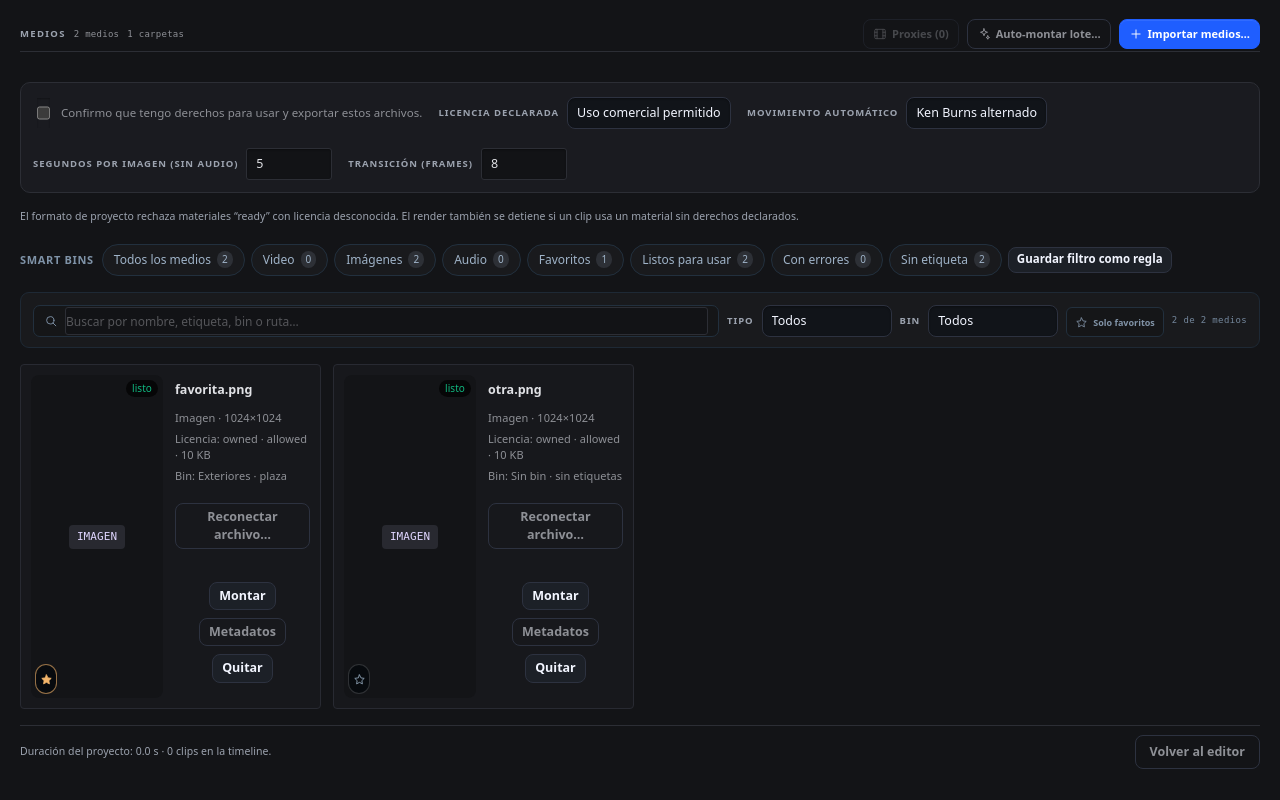
Test: AssetsPanel · organización de medios › filtra por favoritos, etiqueta y bin, y alterna la estrella
The image size is (1280, 800).
Check: the button "favorita.png" is shown, box [175,375,310,405]
Check: the button "otra.png" is shown, box [488,375,623,405]
Click the button "Solo favoritos": coordinates (1115, 322) [1066,307,1164,337]
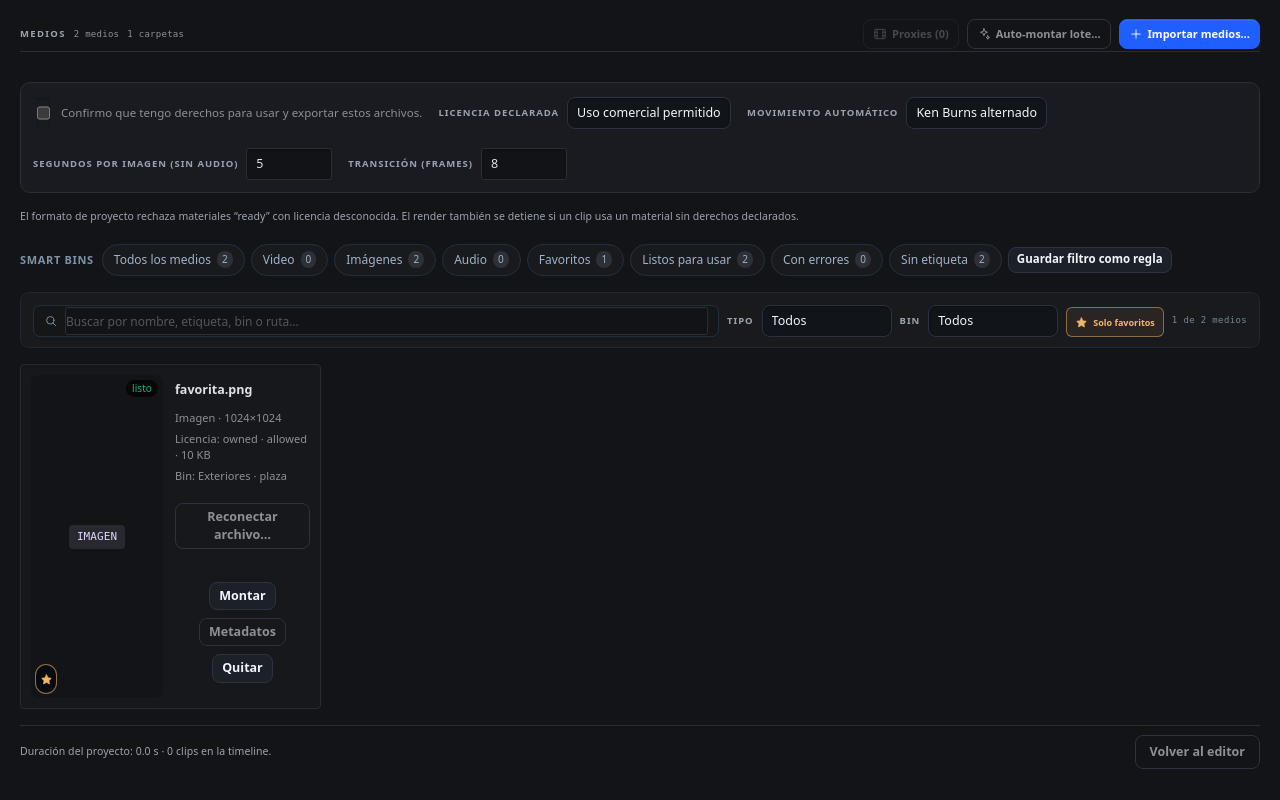
Check: the button "favorita.png" is shown, box [175,375,310,405]
Check: the button "otra.png" is gone
Click the button "Solo favoritos": coordinates (1115, 322) [1066,307,1164,337]
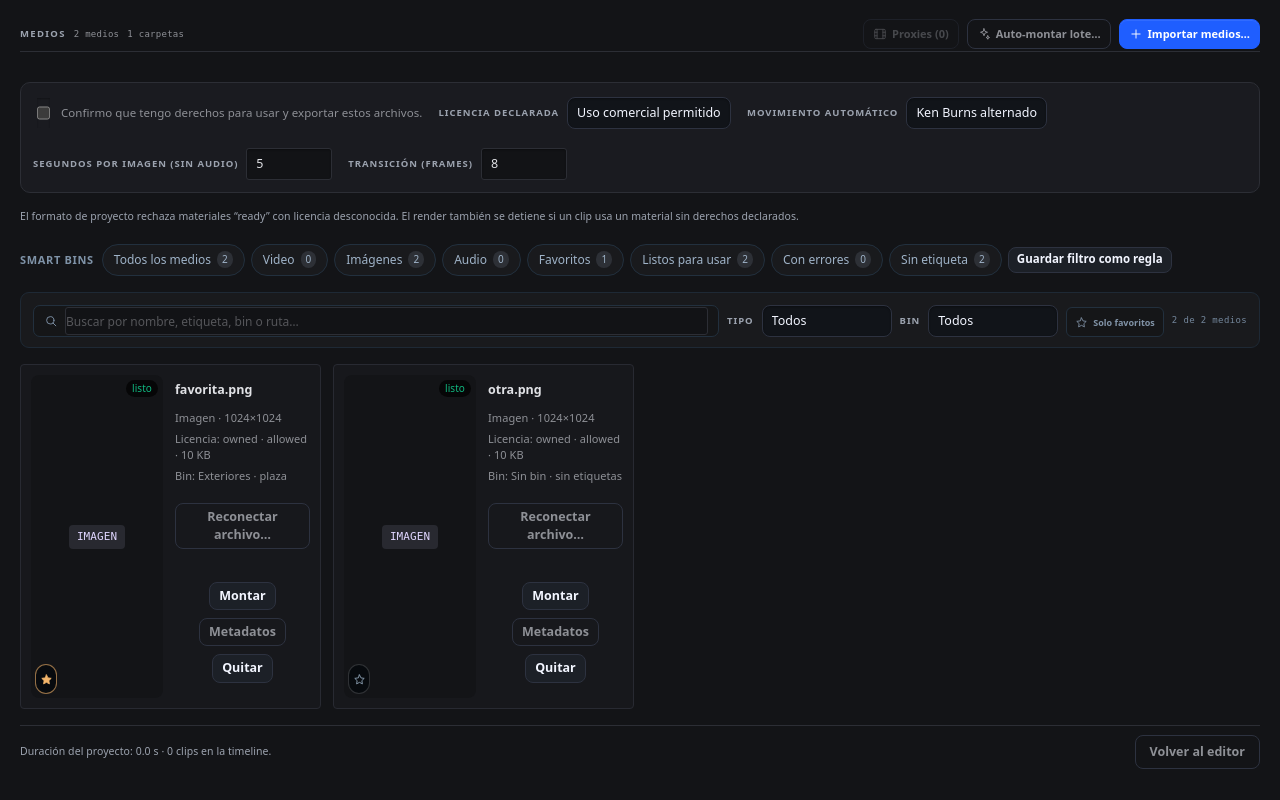
Click the button named "Marcar otra.png como favorito": coordinates (359, 679) [348,664,370,694]
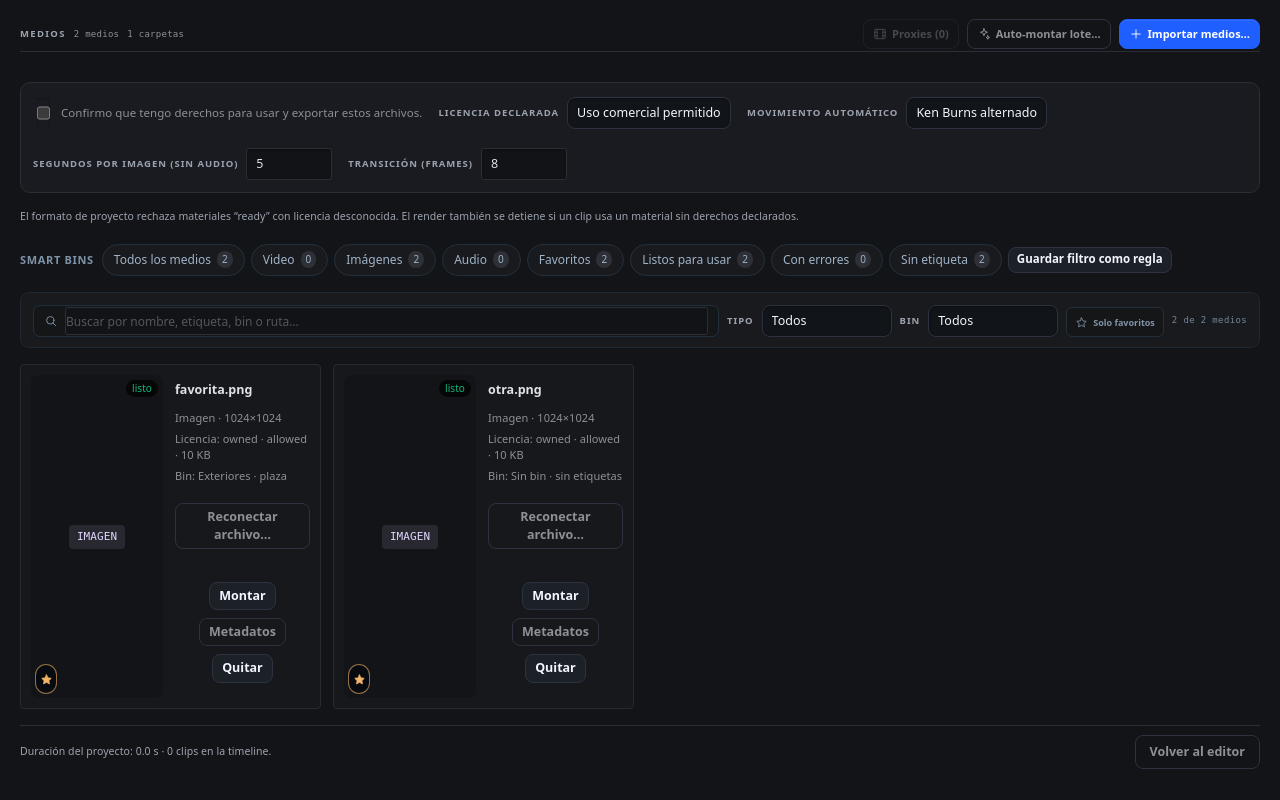
Click the button "Solo favoritos": coordinates (1115, 322) [1066,307,1164,337]
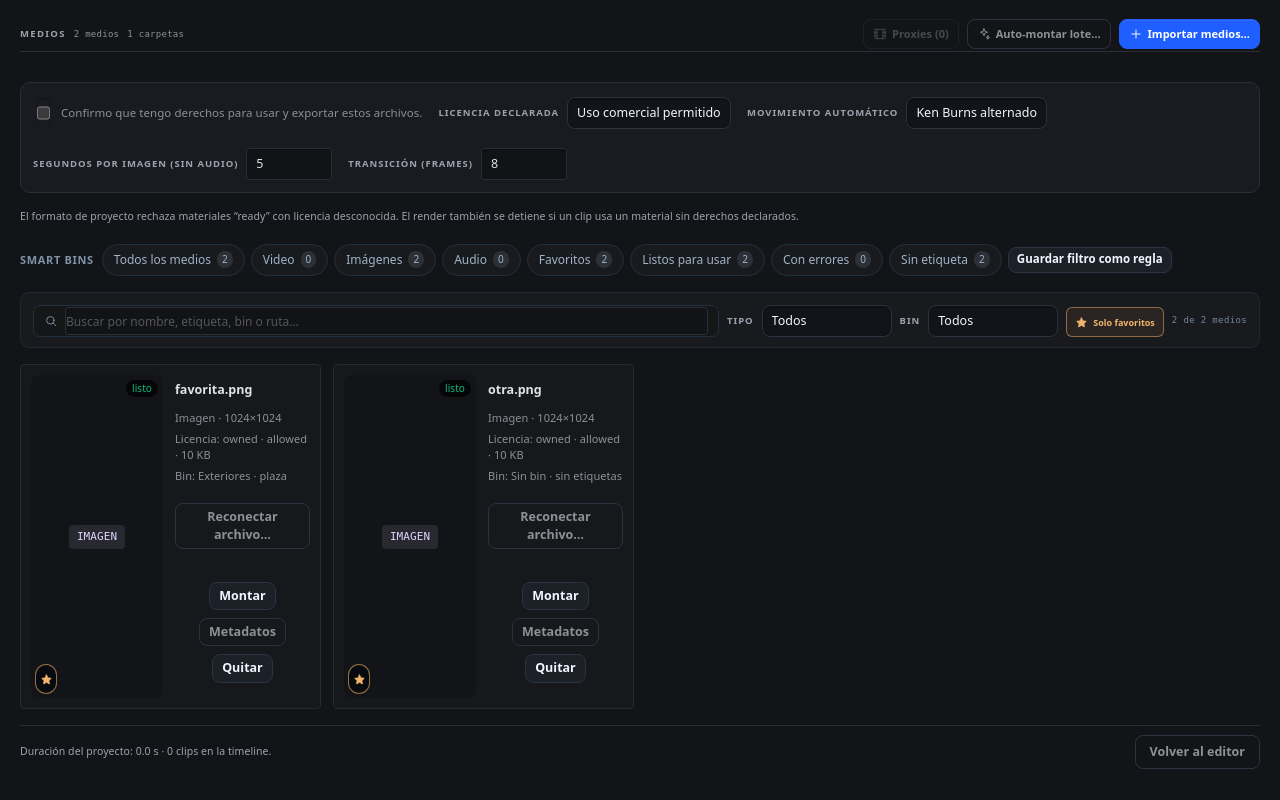
Check: the button "otra.png" is shown, box [488,375,623,405]
In the search field named "Buscar en la biblioteca de medios": coordinates (387, 321) [65,307,708,335], type "plaza"
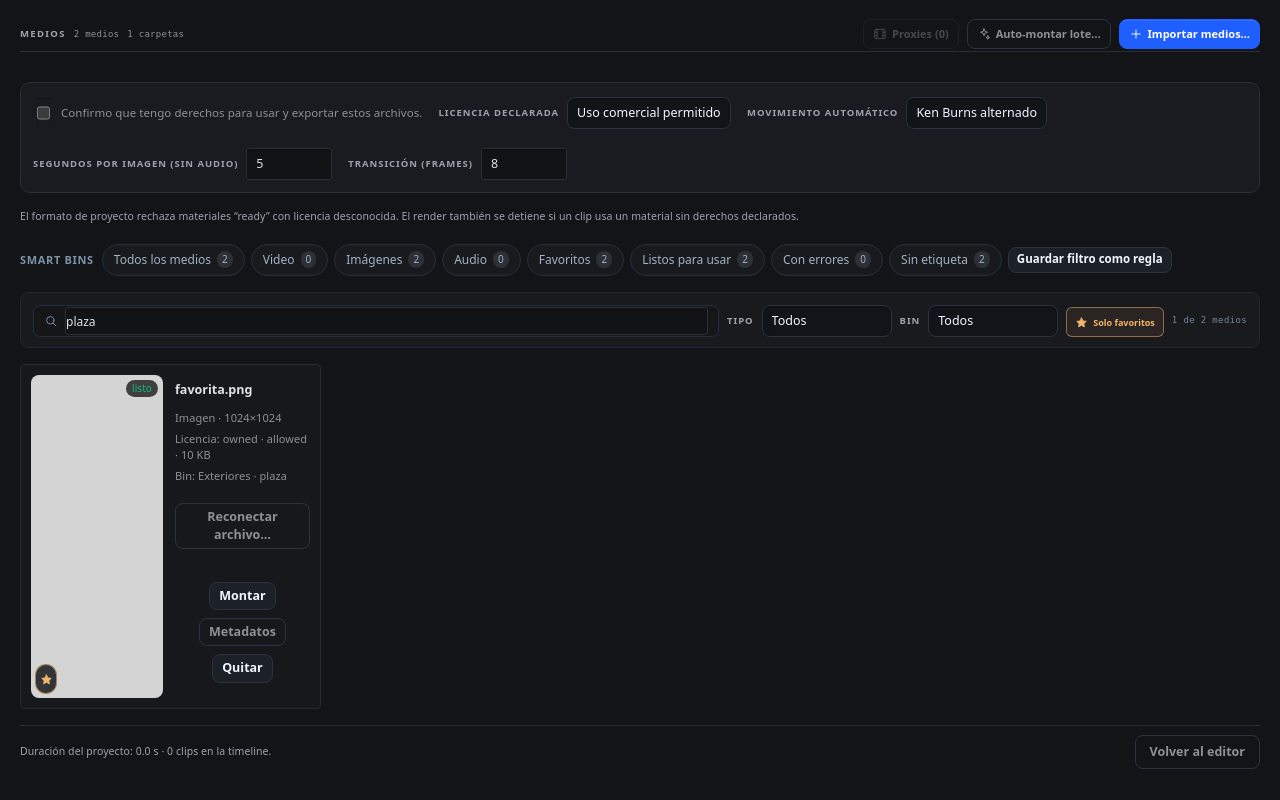
Check: the button "favorita.png" is shown, box [175,375,310,405]
Check: the button "otra.png" is gone
